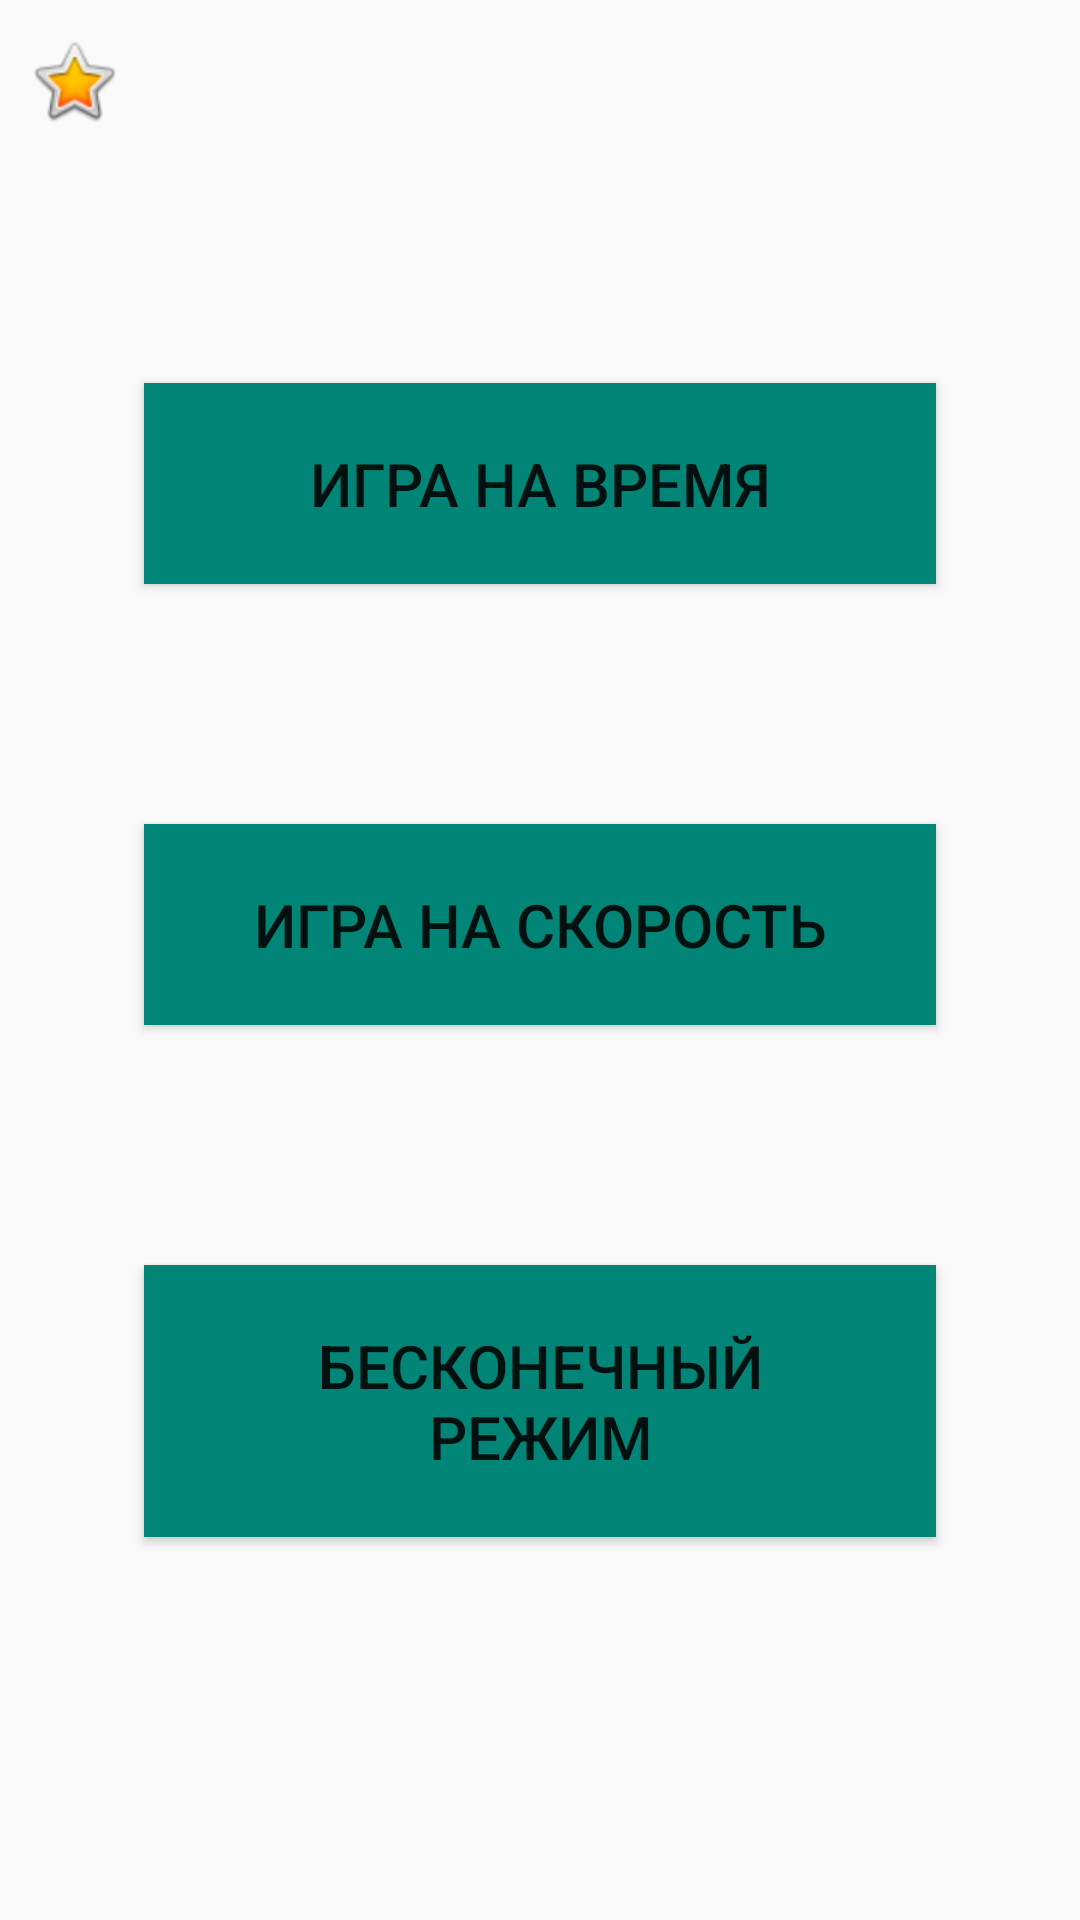

Named icons in this screenshot (1080 × 1920) and their centers, point (x, y):
star on: point (75, 82)
